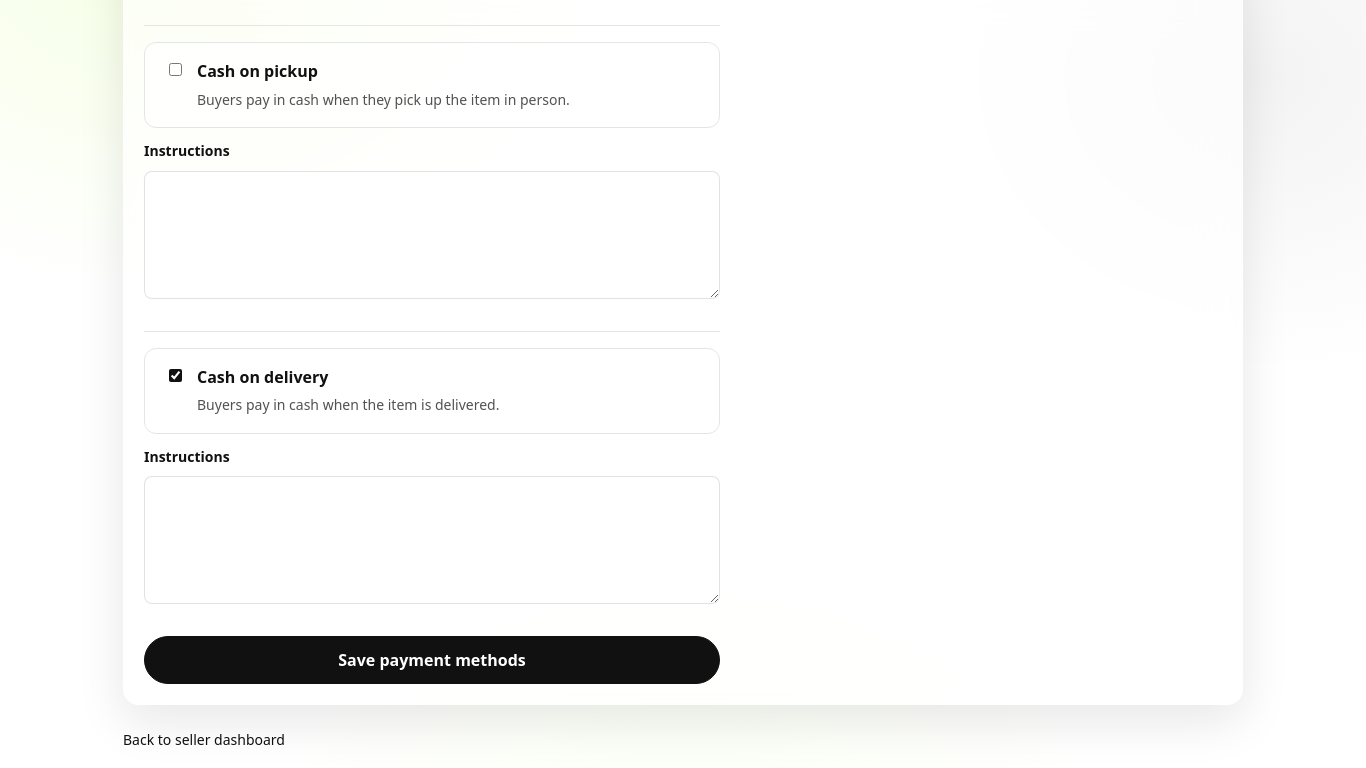
Test case: SellerPaymentSettingsPage › shows an error banner when a save fails
(page scrolled)
Click the button "Save payment methods". click: (432, 660)
box: x1=144 y1=636 x2=720 y2=684
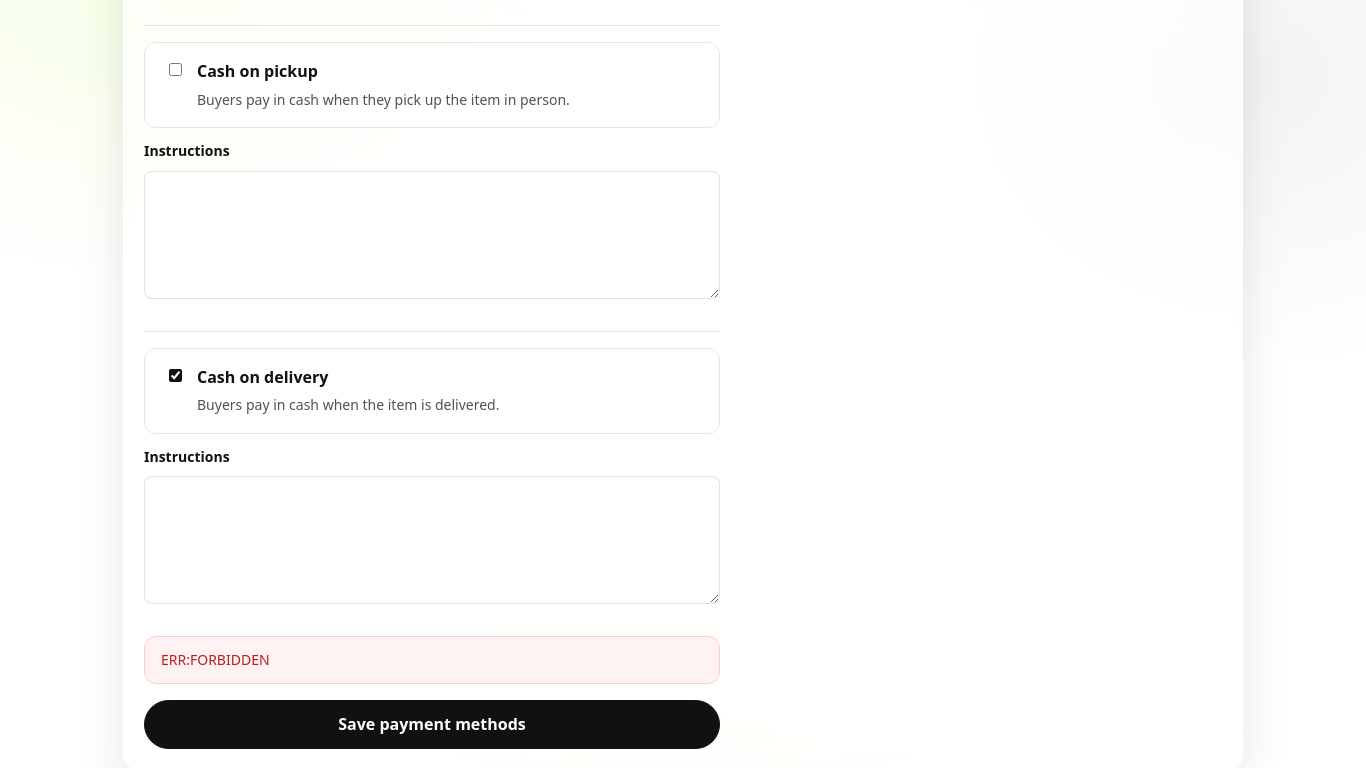
Result: the text "ERR:FORBIDDEN" is shown at x1=144 y1=636 x2=720 y2=684
